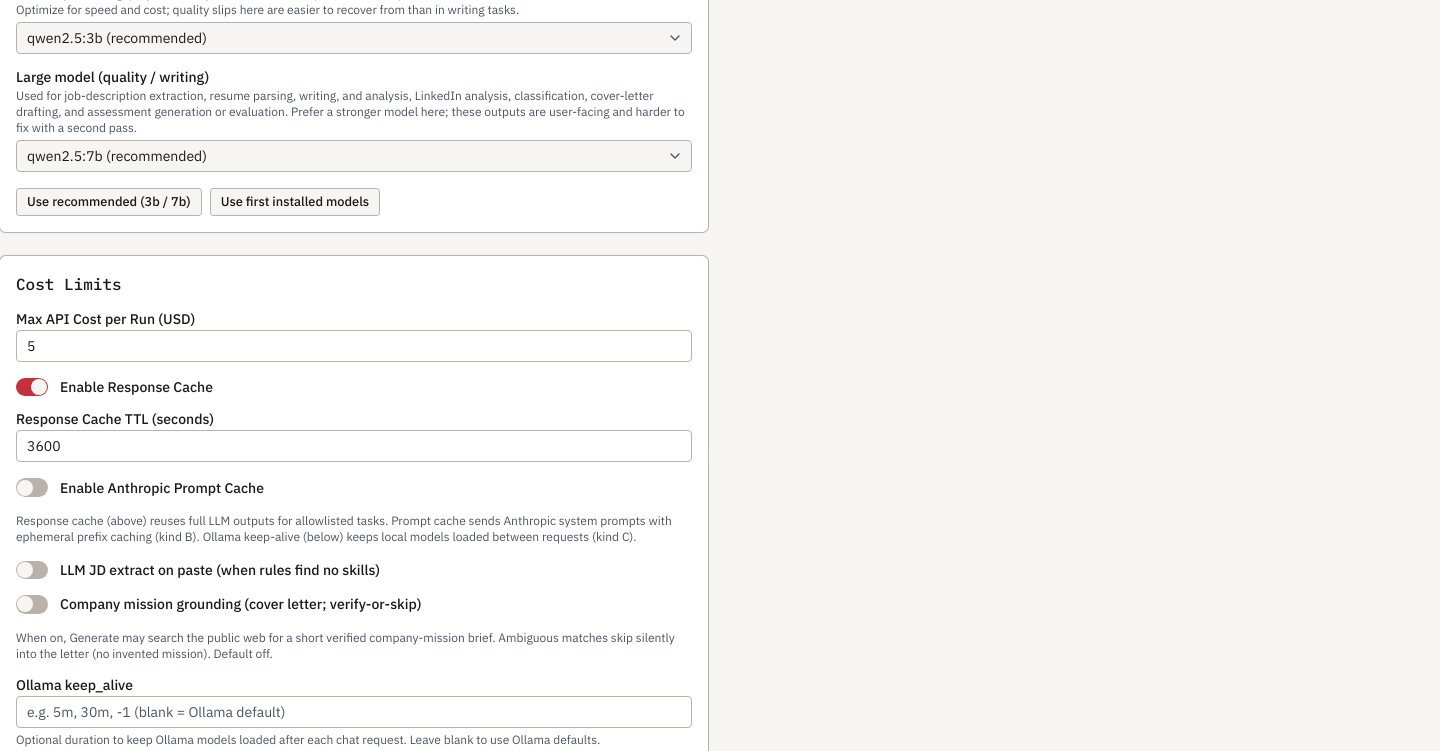
Scenario: Settings remove saved API key › keeps unsaved edits when key removal refetches newer settings
(page scrolled)
Replace the text in the number field labelled "Max API Cost per Run (USD)" with "17" at (354,346), box [16,330,692,362]
(page scrolled)
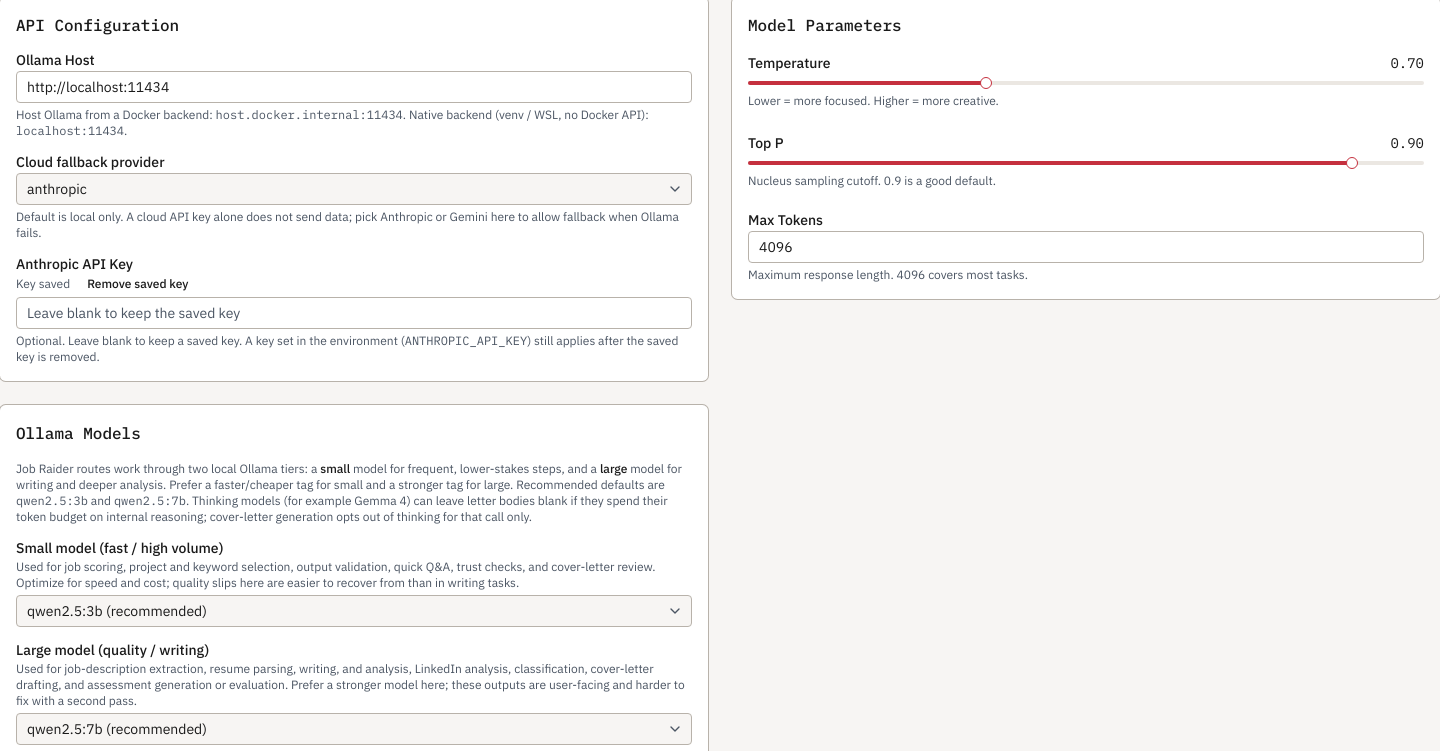
Click the button "Remove saved key" at (138,284), box [78,275,198,293]
(page scrolled)
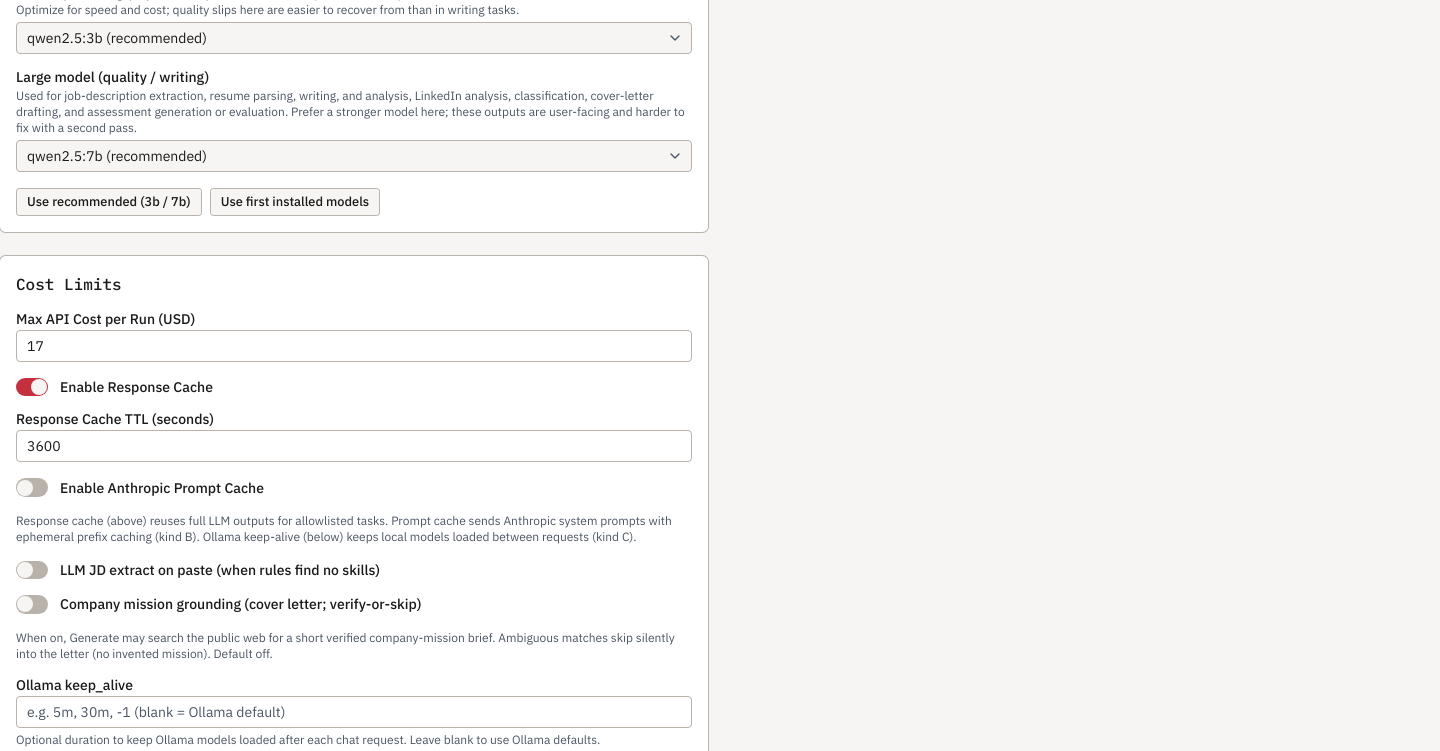
Expected: the text "Key saved" is gone
